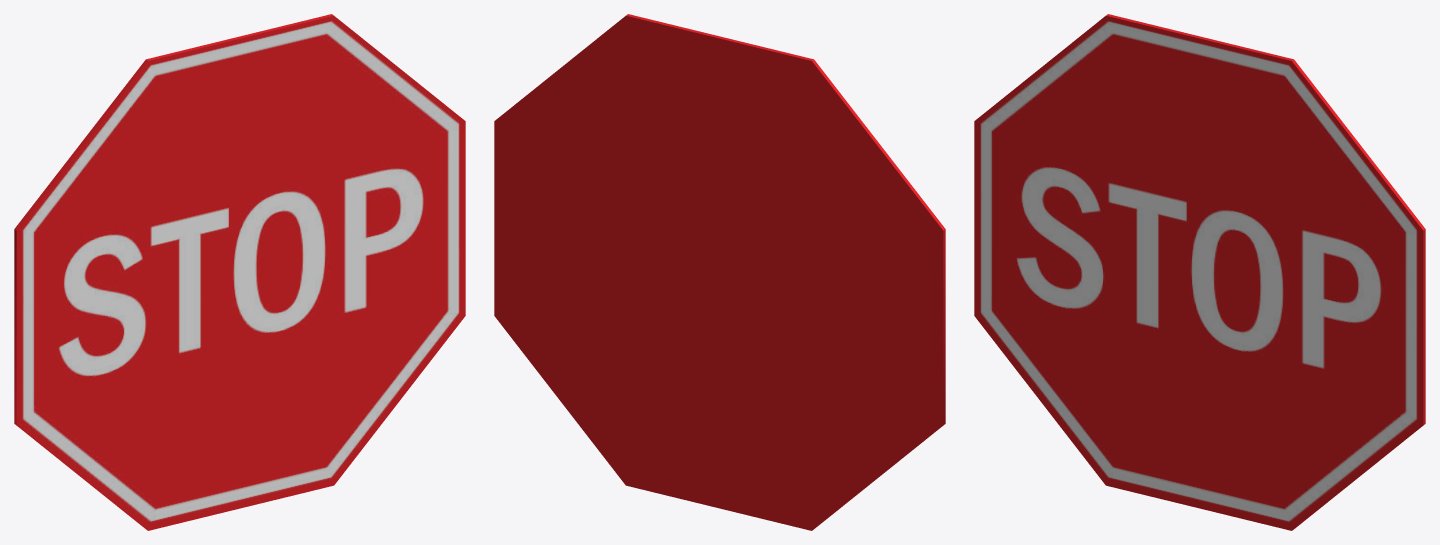
File: SM_sign_05.glb
The picture shows the model from 3 angles, left to right: view 1: azimuth 30°, elevation 25°; view 2: azimuth 150°, elevation 25°; view 3: azimuth 330°, elevation 25°; orthographic projection.
Visible parts, largest first — view 1: SM_sign_05; view 2: SM_sign_05; view 3: SM_sign_05.
Boxes of the visible parts, x1,y1,x2,y2 form: SM_sign_05: (14,14,465,530); SM_sign_05: (494,14,945,530); SM_sign_05: (974,14,1425,530).
Bounding box in the file's own units: 1.48 × 1.48 × 0.013.
1 material, 1 textured.
